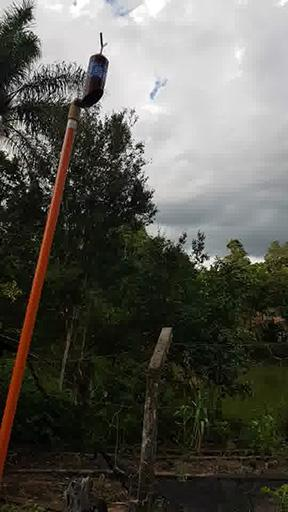Detector_Tensao_Contato: (81, 32, 108, 109)
Vara_Manobra: (1, 104, 81, 474)
